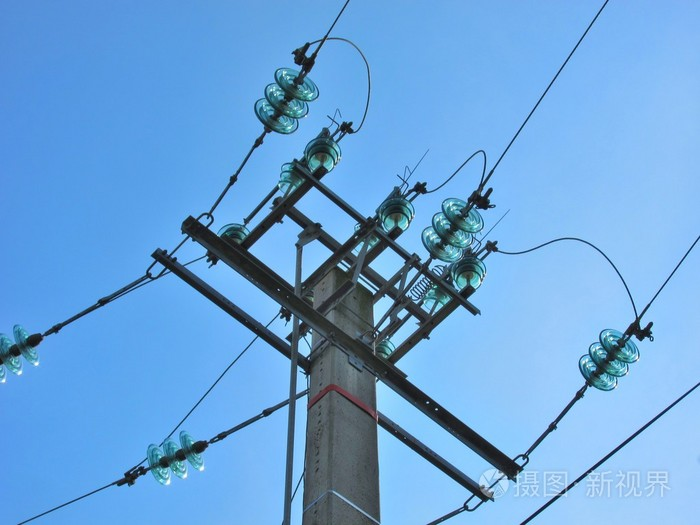insulator: (257, 66, 317, 134), (421, 200, 484, 260), (582, 327, 639, 390), (150, 431, 205, 485), (1, 324, 37, 383)
